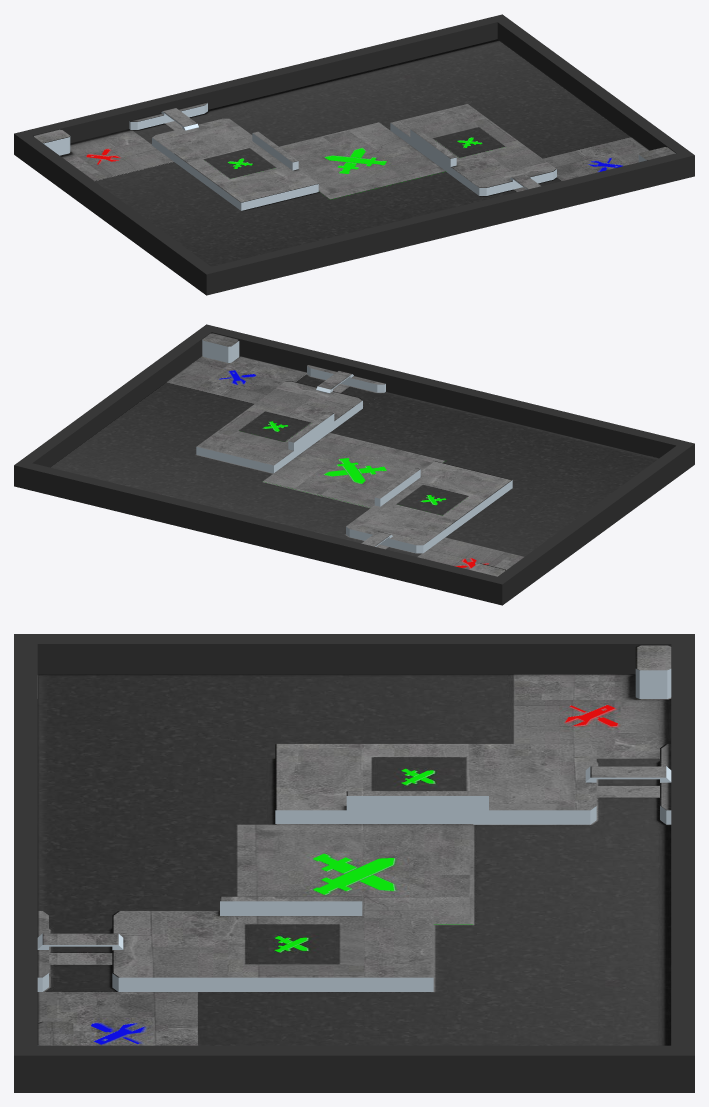
The model's file is step_textured.dae.
The picture shows the model from 3 angles, top to bottom: view 1: azimuth 30°, elevation 25°; view 2: azimuth 150°, elevation 25°; view 3: azimuth 270°, elevation 25°; orthographic projection. The views are drawn at different scales.
Parts seen in each view (by area): view 1: object; view 2: object; view 3: object.
Boxes of the visible parts, left/top/right/bottom form: object: left=14, top=14, right=694, bottom=295; object: left=14, top=324, right=694, bottom=605; object: left=14, top=634, right=694, bottom=1092.
Size of the model in its own units: 12.6 by 8.6 by 0.52.
Materials: 7 (1 with a texture image).
